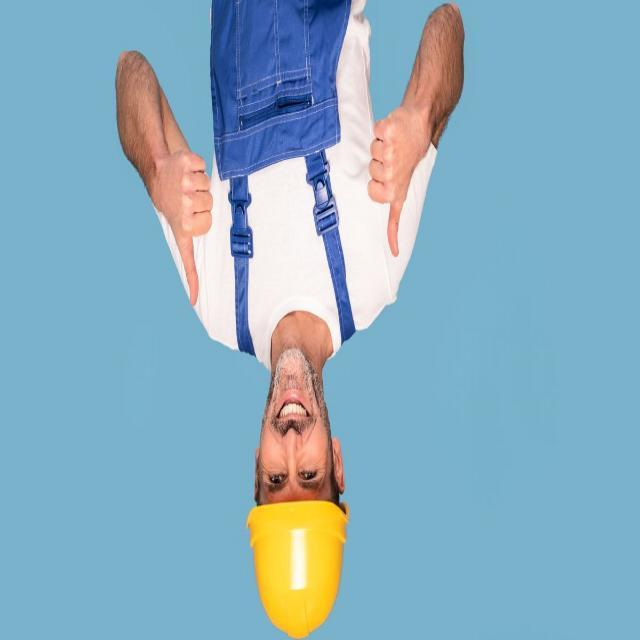safetyhelmet: (244, 414, 361, 640)
